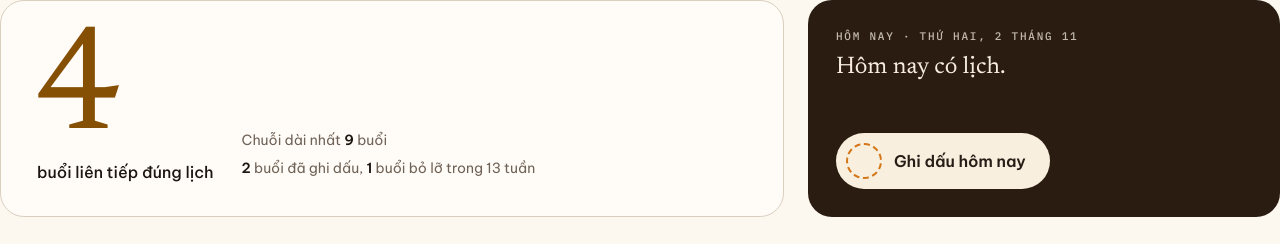
Test: HabitStreakPanel › puts the check-in back and explains when saving fails
Step 1. Click the button "Ghi dấu hôm nay" → (943, 161), box [836,133,1050,189]
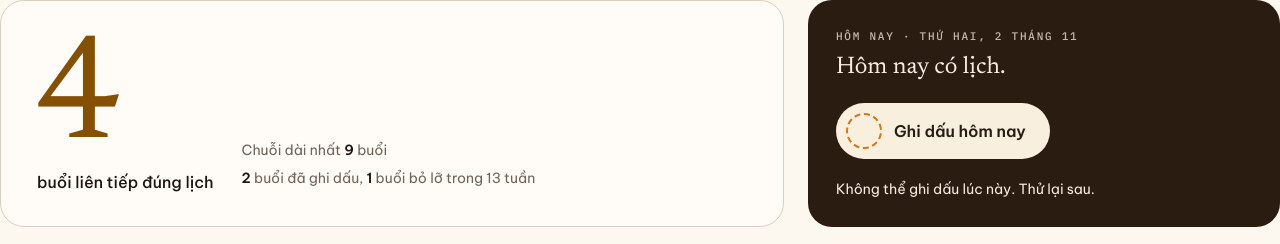
Expected: the text "4" is shown, [37,28,115,176]
Result: the message reads "Không thể ghi dấu lúc này. Thử lại sau." at [836,180,1095,198]
